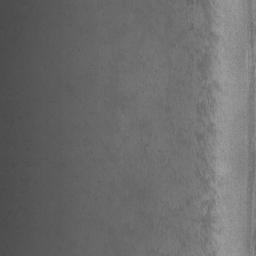Silk spot: (186, 0, 219, 83), (195, 81, 219, 193), (191, 199, 216, 253), (176, 229, 190, 249), (186, 192, 199, 206), (182, 23, 194, 34)
